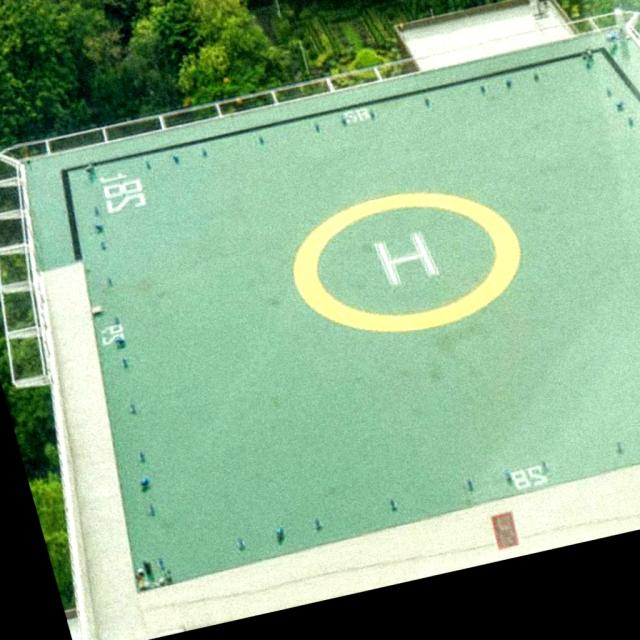helipad: (288, 186, 527, 336)
